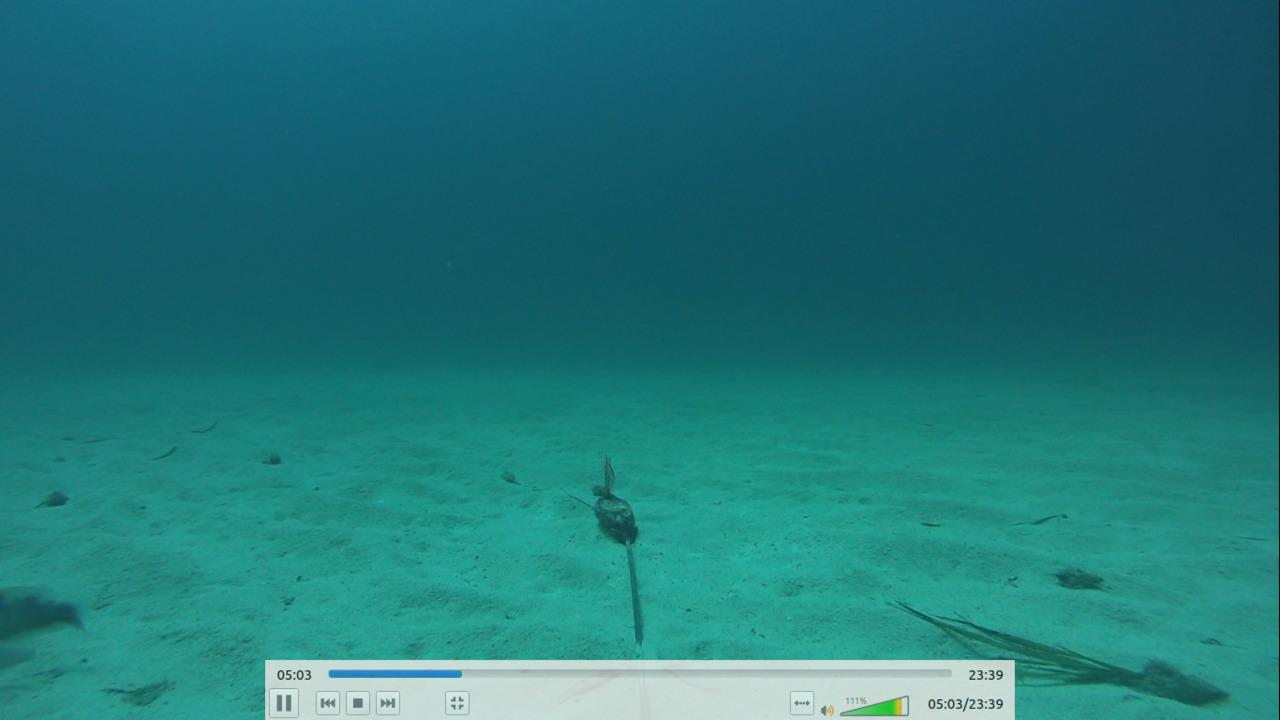raor: (2, 588, 94, 640)
